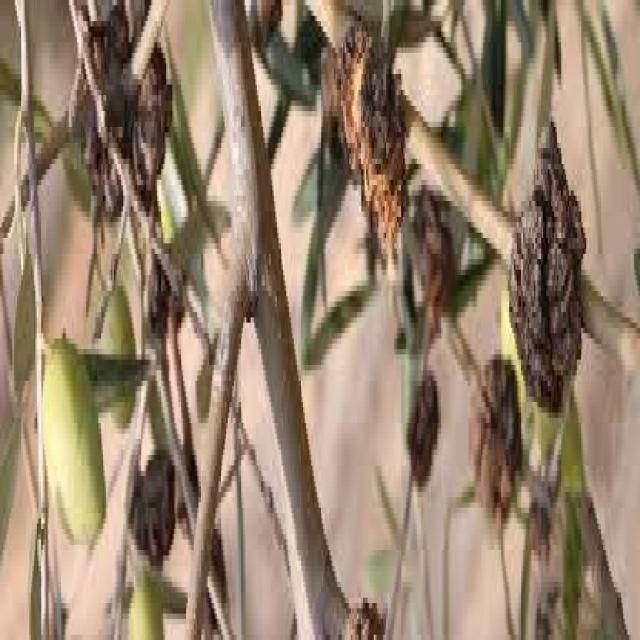Tuberculosis: (509, 122, 585, 413), (322, 16, 406, 254), (471, 354, 522, 550), (131, 46, 171, 225), (128, 450, 174, 561), (405, 363, 439, 494)
